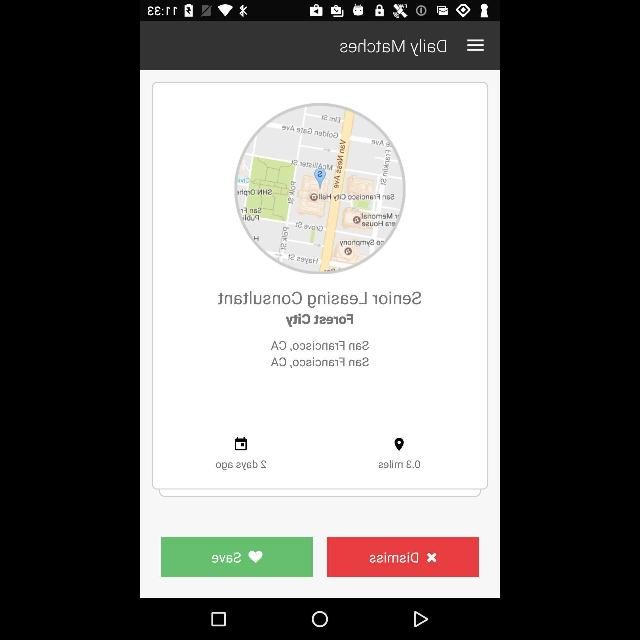icon: (310, 610, 332, 628), (409, 611, 428, 629), (466, 37, 486, 53), (248, 550, 264, 564), (234, 436, 248, 450), (212, 612, 225, 626), (394, 436, 404, 452), (426, 552, 438, 564)
map: (233, 104, 404, 276)
panel: (140, 599, 500, 639)
text: (216, 288, 424, 308), (338, 36, 448, 56), (269, 340, 371, 352), (270, 356, 370, 368), (286, 314, 354, 328), (214, 458, 268, 472), (369, 552, 419, 562), (376, 460, 424, 470), (209, 554, 241, 562)
textbutton: (328, 537, 478, 577), (163, 538, 313, 576)
toolbar: (140, 21, 500, 70)
uppertaskbar: (140, 1, 500, 21)
